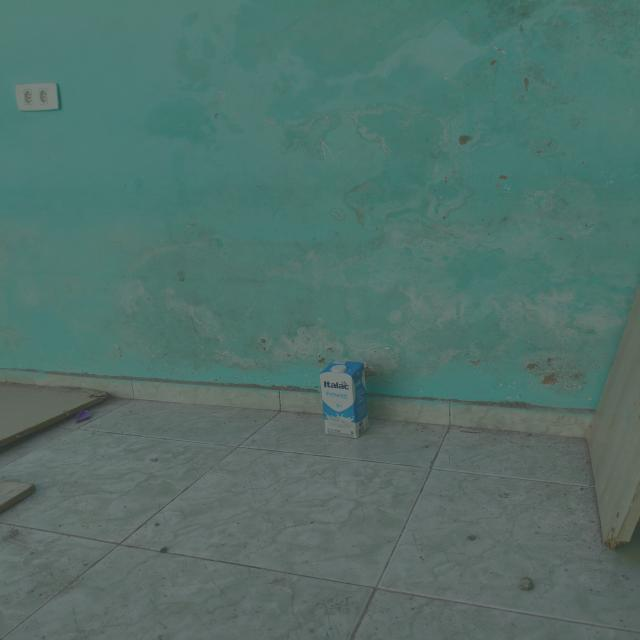Caixa de Leite: (320, 362, 368, 439)
